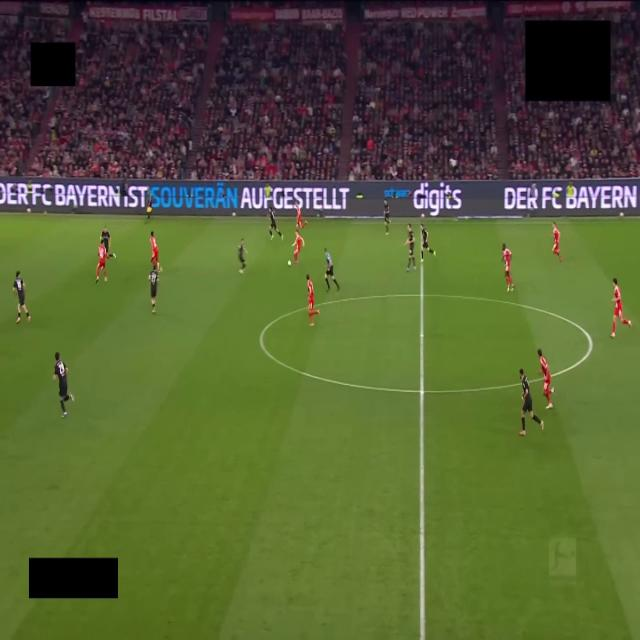ball: (288, 261, 291, 266)
player: (520, 369, 543, 435), (53, 352, 74, 416), (611, 279, 631, 337), (537, 349, 554, 409), (13, 271, 30, 323), (306, 275, 319, 326), (421, 224, 435, 262), (502, 244, 513, 292), (268, 207, 283, 239), (405, 224, 415, 271), (150, 232, 162, 271), (96, 240, 107, 282), (101, 226, 115, 258), (149, 264, 158, 313), (292, 229, 304, 263), (553, 223, 562, 262), (238, 239, 246, 273), (296, 205, 306, 230), (384, 200, 389, 235)
referee: (324, 248, 339, 290)
